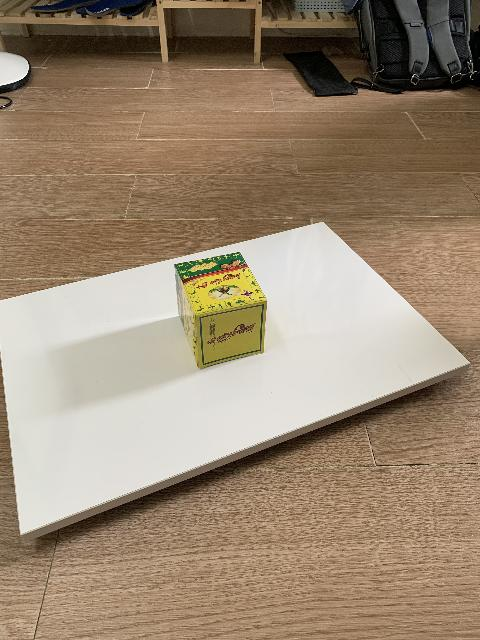luong_kho: (174, 252, 267, 370)
